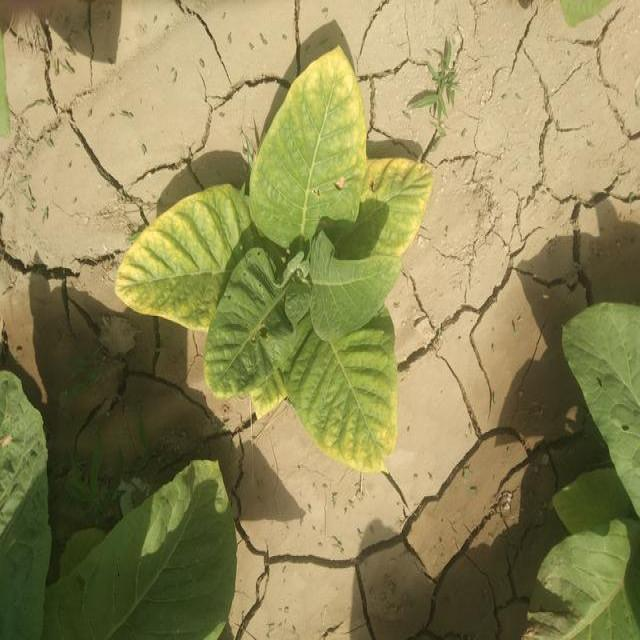crop: (118, 52, 420, 472), (0, 381, 231, 640), (527, 304, 640, 640)
